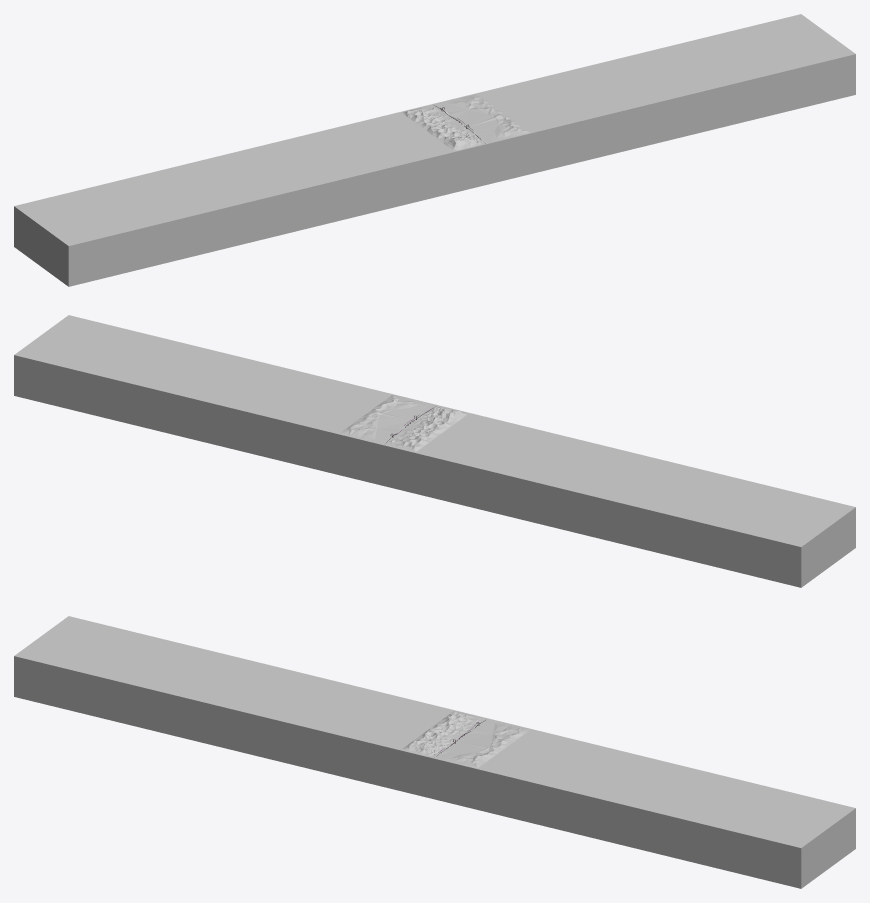
The model's file is desert_brige_2.FBX.
3 views of the same model, one above another, from view 1: azimuth 30°, elevation 25°; view 2: azimuth 150°, elevation 25°; view 3: azimuth 330°, elevation 25° (orthographic).
Visible parts, largest first — view 1: land_desert; view 2: land_desert; view 3: land_desert.
Boxes of the visible parts, box(x1,y1,x2,y2) form: land_desert: box(14, 14, 855, 286); land_desert: box(14, 315, 855, 587); land_desert: box(14, 616, 855, 888).
Size of what is drawn, in the model's own units: 19938 by 2400 by 1115.
